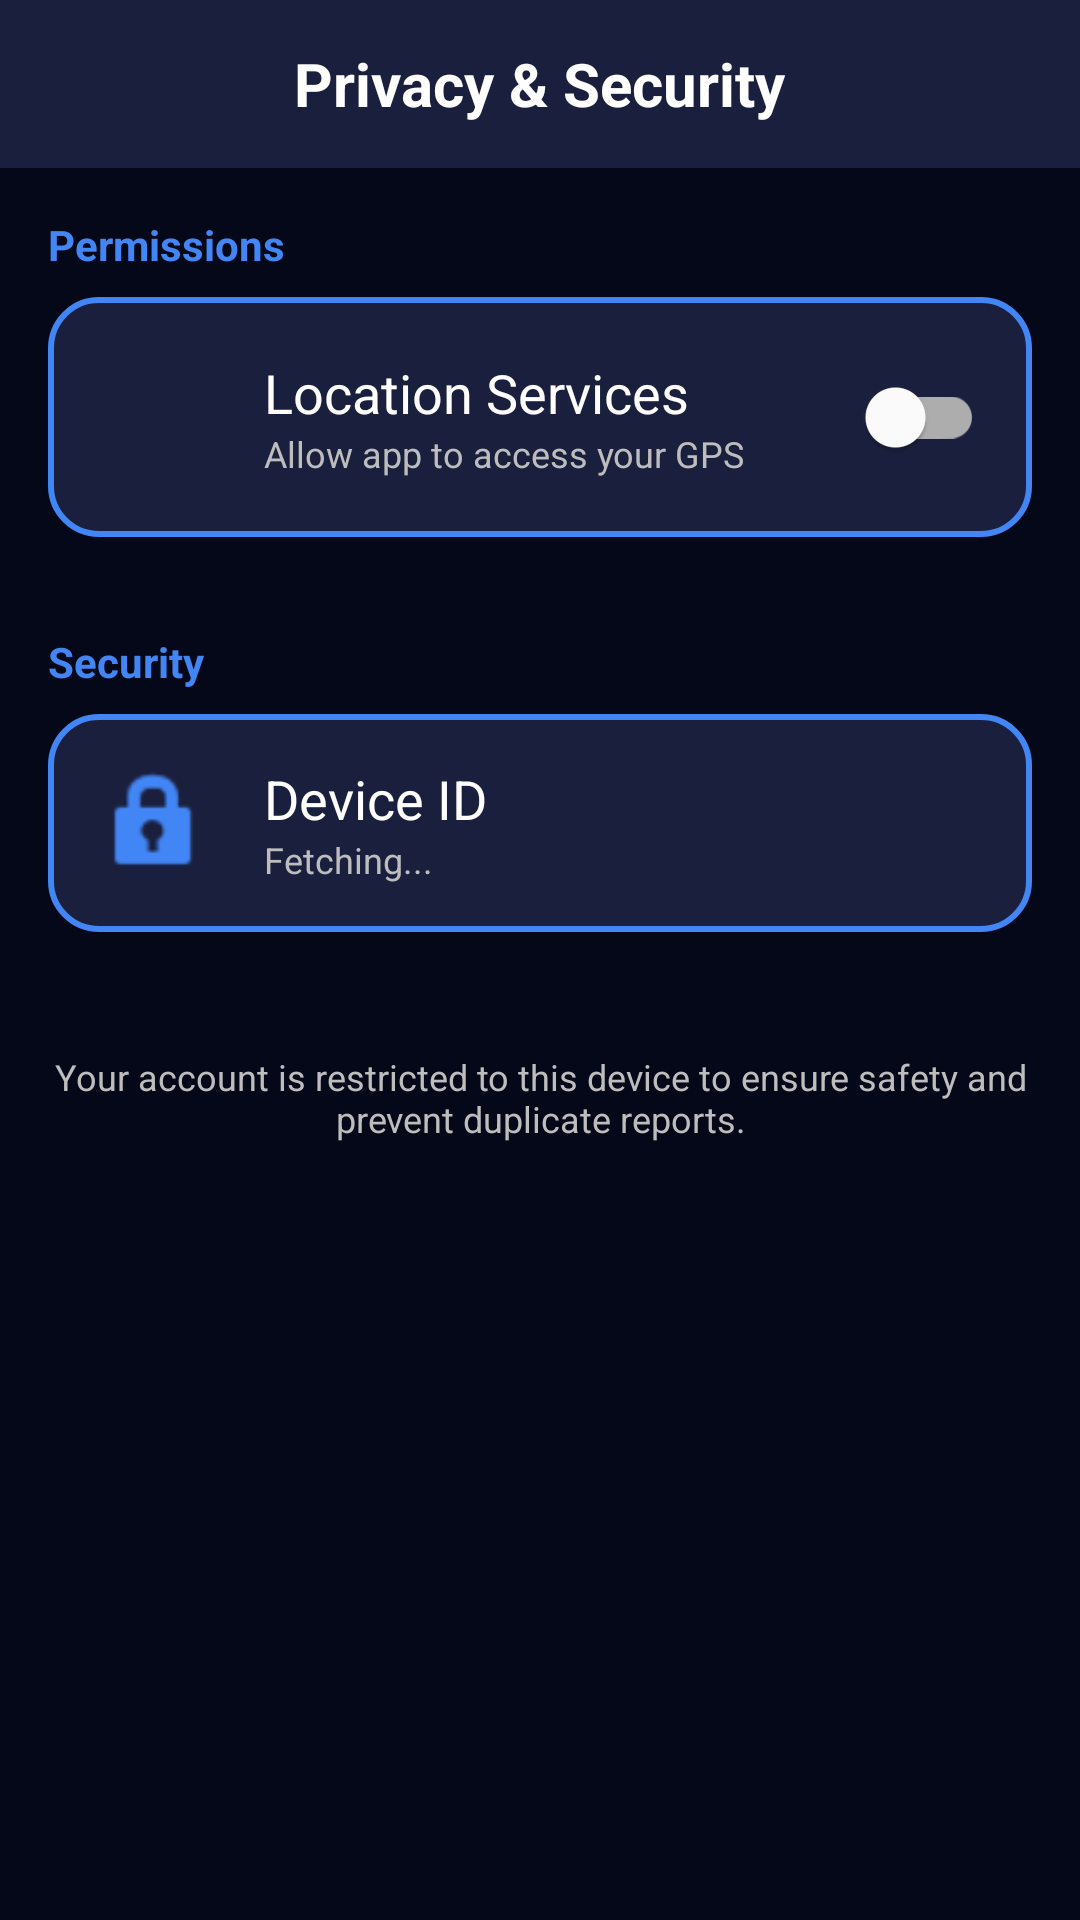

Screen size 1080w x 1920h. Icon name, then its box in pixels as [x1=x1, y1=y1, x2=x2, y2=y2]:
lock idle: [x1=114, y1=773, x2=192, y2=865]
